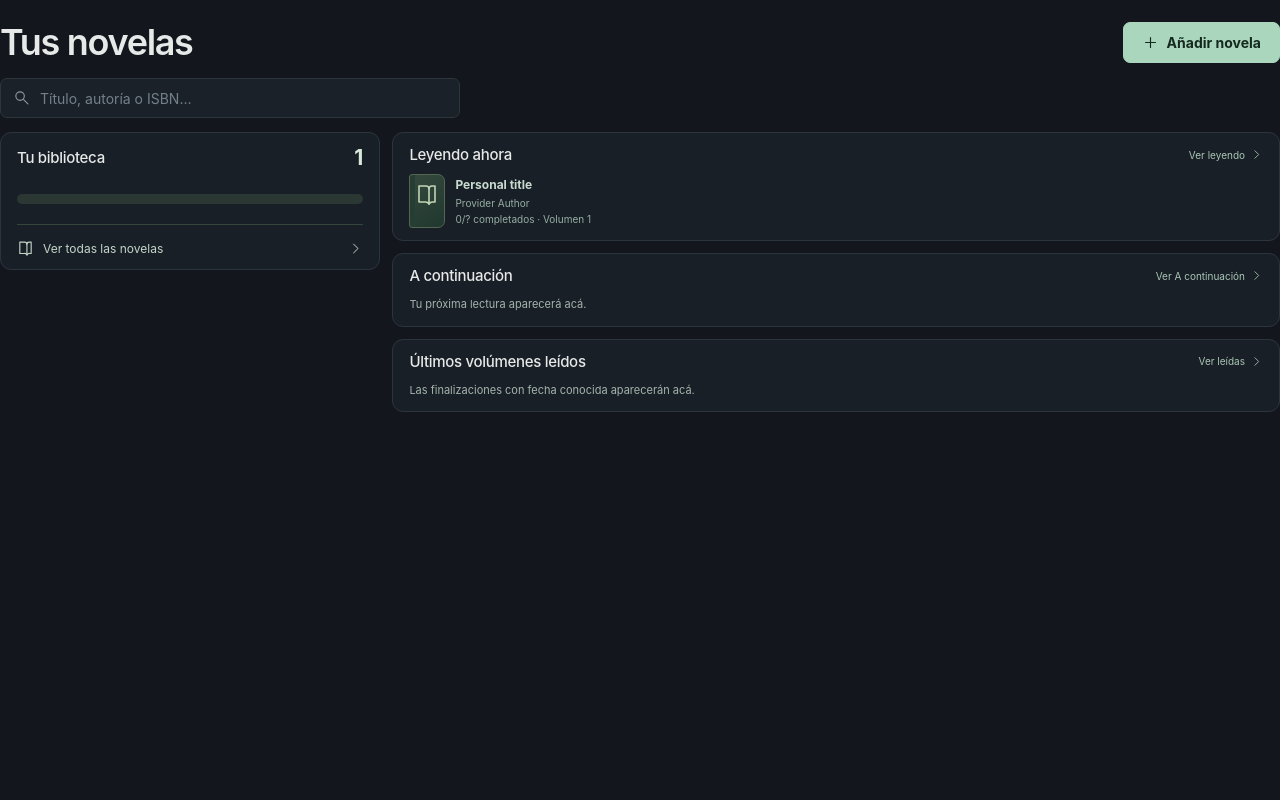
Test: navega por autor con su identidad de RanobeDB y resultados locales/remotos
Click the button with aria-label "Abrir novela Personal title" at point(427, 201), box [409, 174, 832, 228]
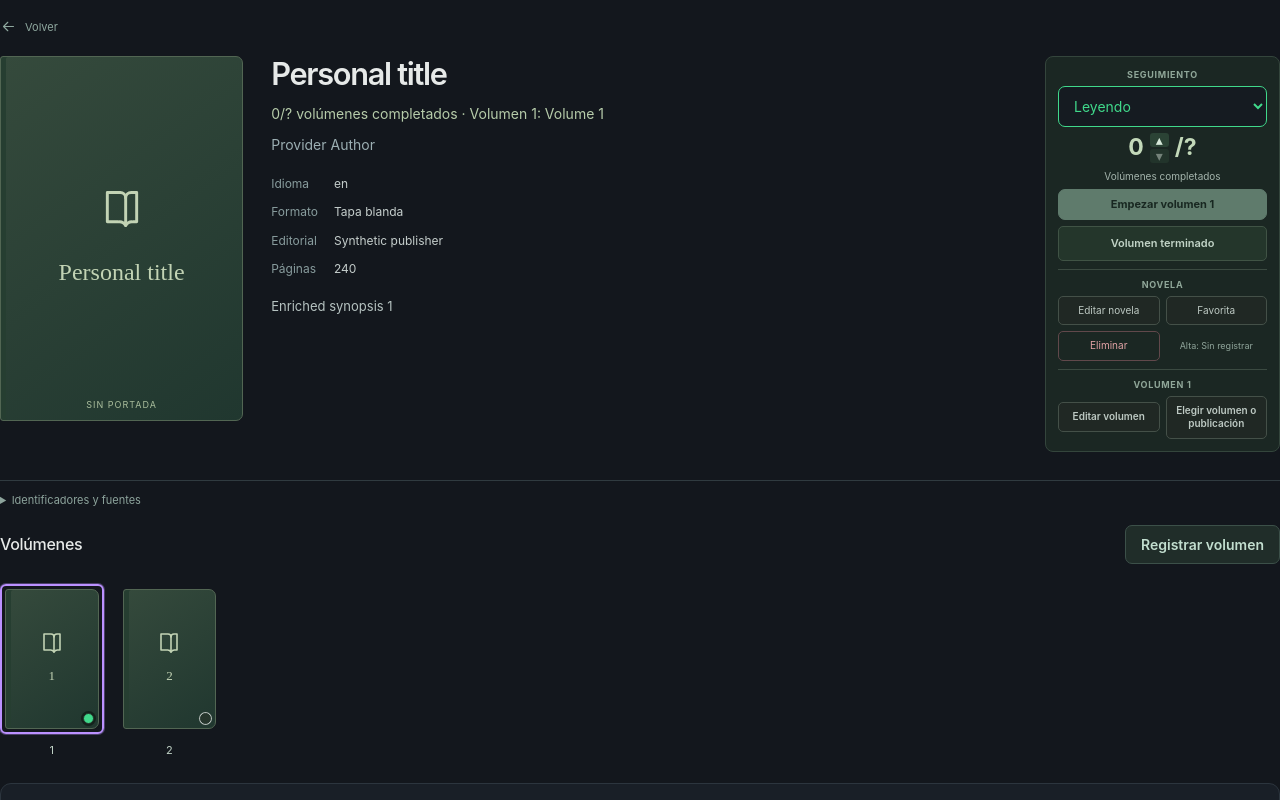
Click the button "Provider Author" at point(323, 145), box [271, 134, 375, 156]
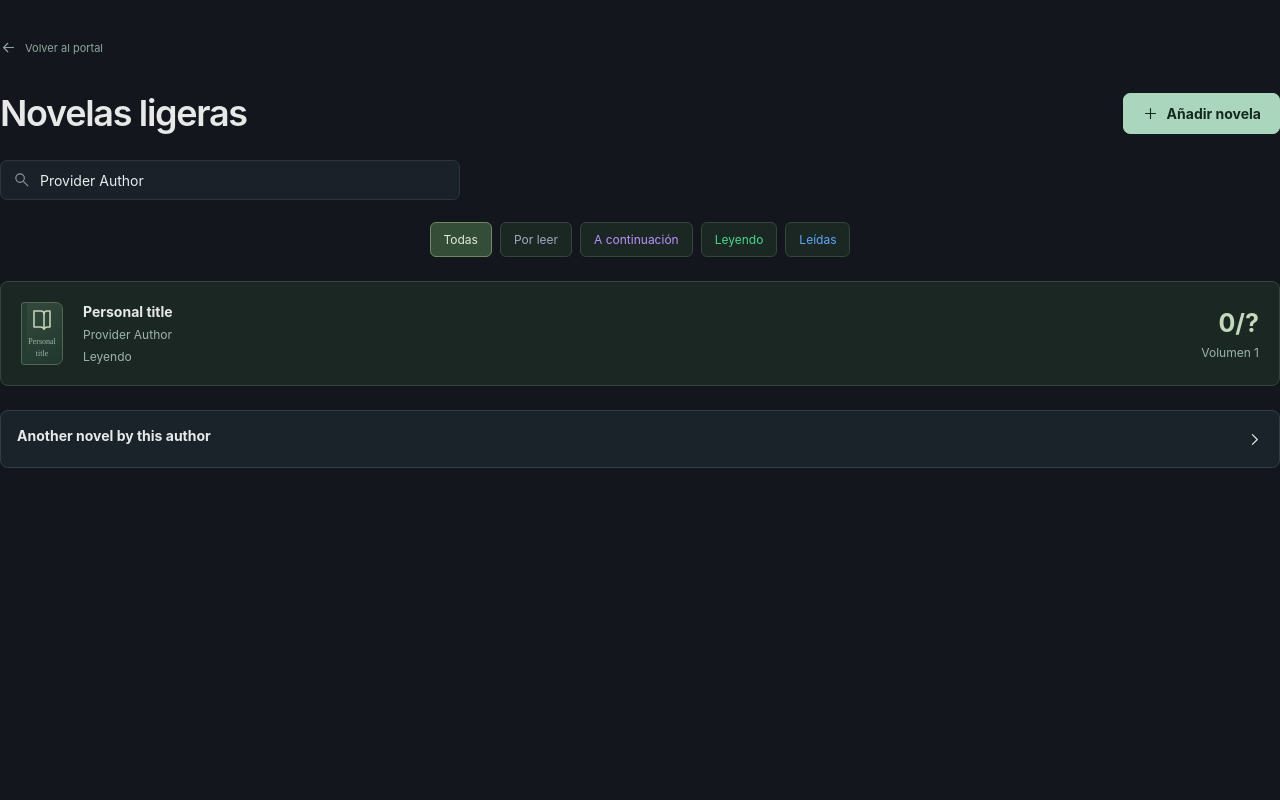
Check: the button "Another novel by this author" is shown, box [0, 410, 1279, 468]
